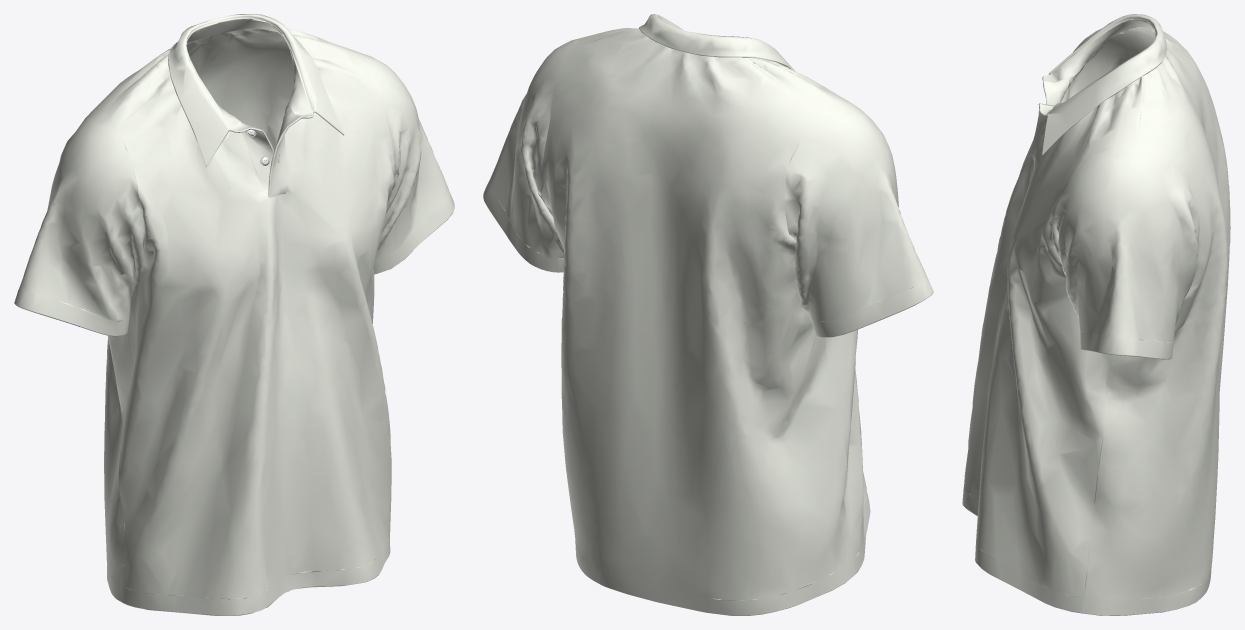
File: polo.glb
3 views of the same model, side by side, from view 1: azimuth 30°, elevation 25°; view 2: azimuth 150°, elevation 25°; view 3: azimuth 270°, elevation 25° (orthographic). The views are drawn at different scales.
Parts seen in each view (by area): view 1: Short Sleeve Polo; view 2: Short Sleeve Polo; view 3: Short Sleeve Polo.
Boxes of the visible parts, x1,y1,x2,y2 form: Short Sleeve Polo: (14,14,454,615); Short Sleeve Polo: (483,14,933,615); Short Sleeve Polo: (962,14,1230,615).
Size of the model in its own units: 0.6033 by 0.7166 by 0.3267.
3 materials, 2 textured.
